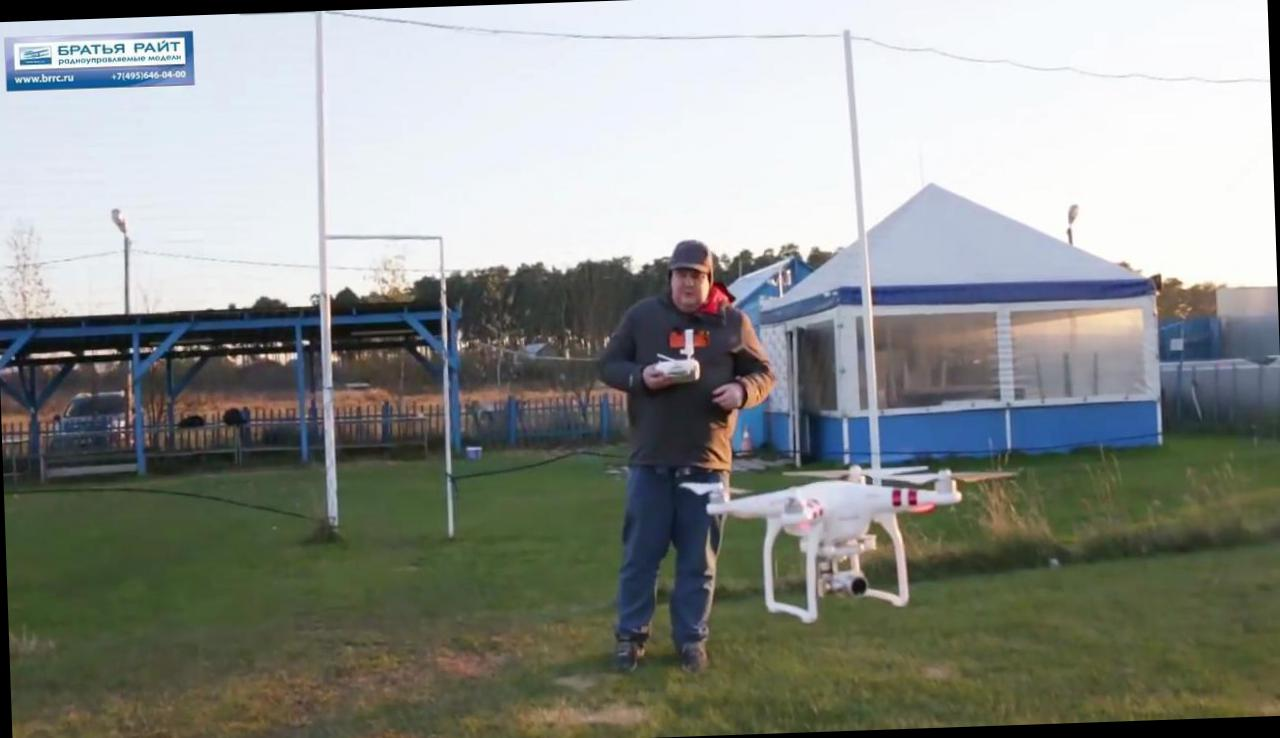drone: (672, 456, 1012, 624)
